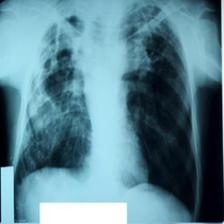tuberculosis: (11, 2, 201, 224)
